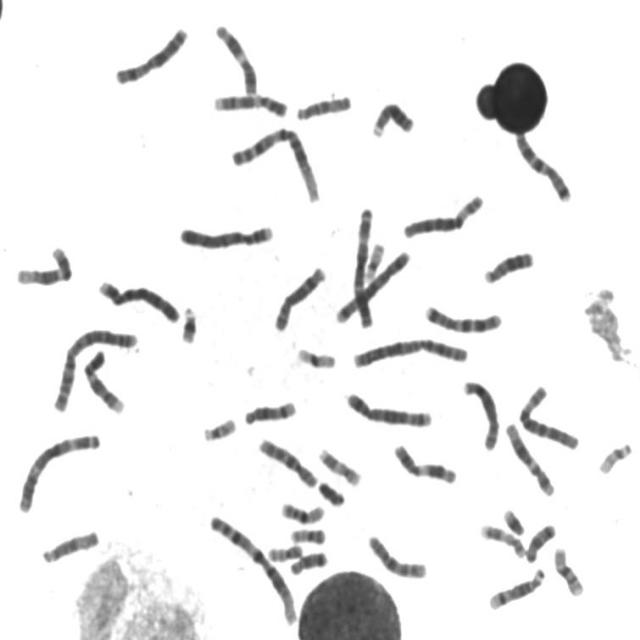A1: (204, 509, 300, 627), (228, 118, 324, 205)
A2: (48, 321, 142, 413), (348, 330, 472, 369)
A3: (13, 425, 104, 515), (349, 202, 376, 329)
B4: (95, 273, 182, 325), (176, 218, 277, 250)
B5: (332, 244, 414, 326), (342, 386, 434, 429)
C10: (254, 430, 322, 490), (364, 528, 431, 582)
C11: (211, 17, 261, 96), (390, 438, 460, 486)
C12: (502, 415, 558, 498), (13, 240, 75, 287)
C6: (516, 378, 584, 452), (398, 188, 488, 240)
C7: (511, 124, 575, 205), (421, 298, 506, 335)
C8: (270, 260, 330, 333), (460, 373, 502, 452)
C9: (80, 343, 128, 415), (209, 86, 291, 118)
D13: (480, 244, 538, 286), (369, 96, 417, 140)
D14: (486, 562, 548, 612), (240, 394, 300, 426)
D15: (38, 522, 103, 564), (292, 88, 355, 121)
E16: (550, 541, 588, 598), (277, 496, 328, 526)
E17: (314, 442, 364, 488), (477, 518, 528, 558)
E18: (523, 518, 559, 562), (286, 545, 331, 577)
F19: (293, 341, 340, 371), (360, 236, 388, 282)
F20: (265, 536, 305, 562), (286, 522, 329, 546)
G21: (177, 299, 201, 345), (499, 502, 528, 536)
G22: (595, 436, 635, 476), (199, 412, 240, 442)
X: (110, 20, 192, 86)
Y: (314, 473, 348, 508)
